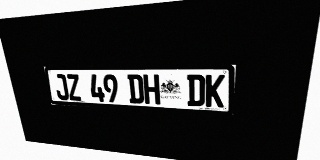4: (88, 74, 105, 102)
9: (102, 74, 119, 103)
D: (187, 74, 205, 107), (127, 74, 144, 104)
H: (143, 74, 160, 104)
J: (53, 74, 70, 100)
K: (205, 75, 225, 107)
Z: (65, 74, 82, 101)
